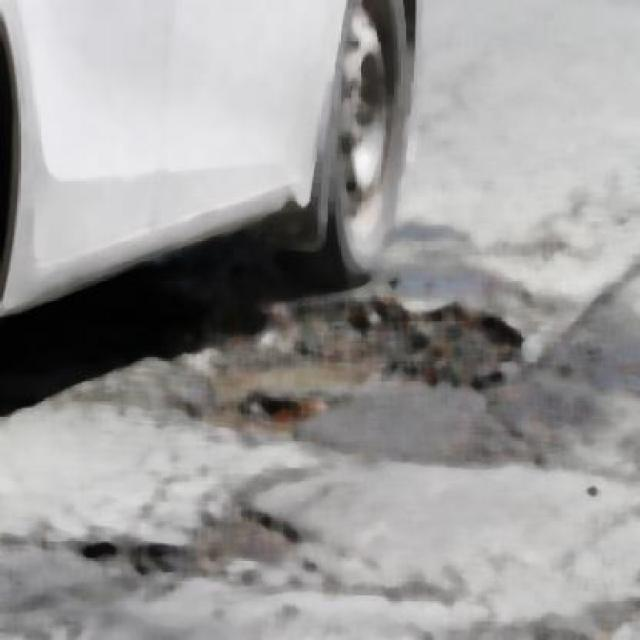Pothole: (144, 288, 535, 452), (80, 505, 300, 583)
